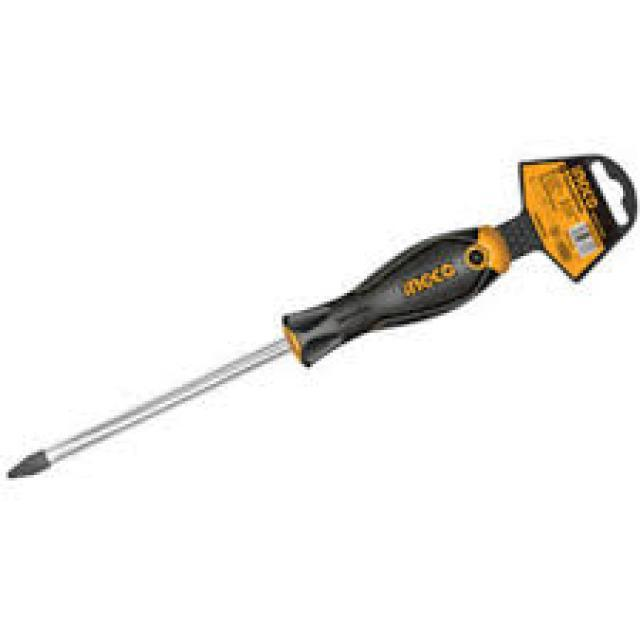screwdriver: (0, 223, 521, 484)
